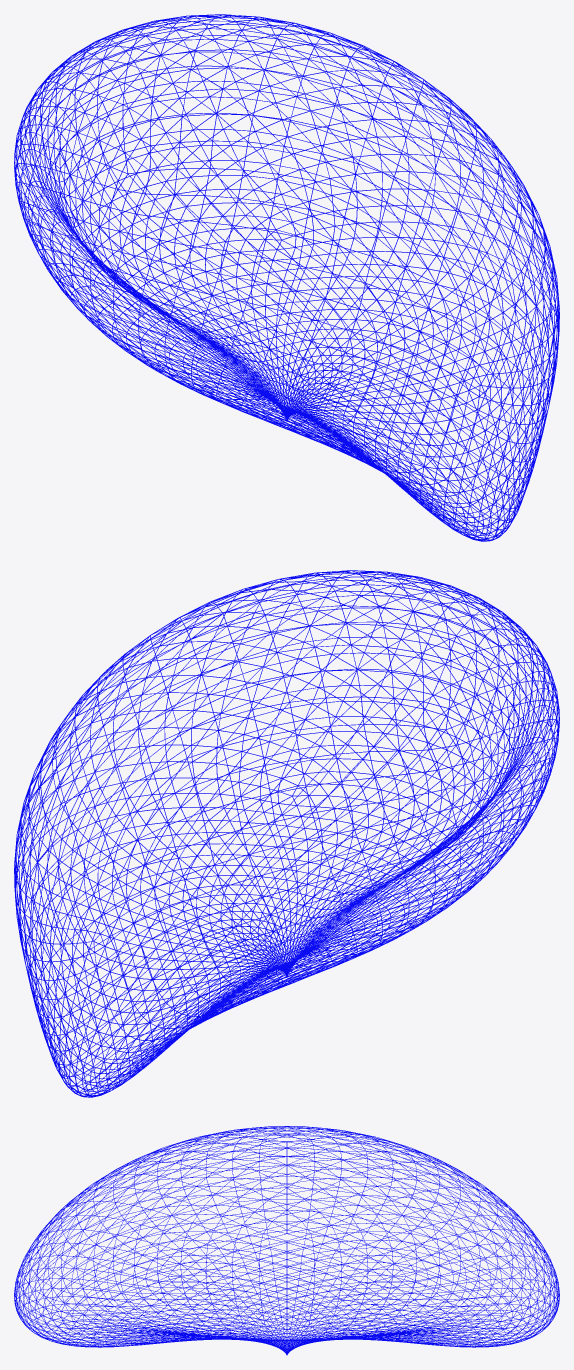
The model's file is Form2.glb.
3 renders of one model, top to bottom at view 1: azimuth 30°, elevation 25°; view 2: azimuth 150°, elevation 25°; view 3: azimuth 270°, elevation 25°, orthographic. The views are drawn at different scales.
Bounding box in the file's own units: 1.15 × 0.9993 × 2.3.
